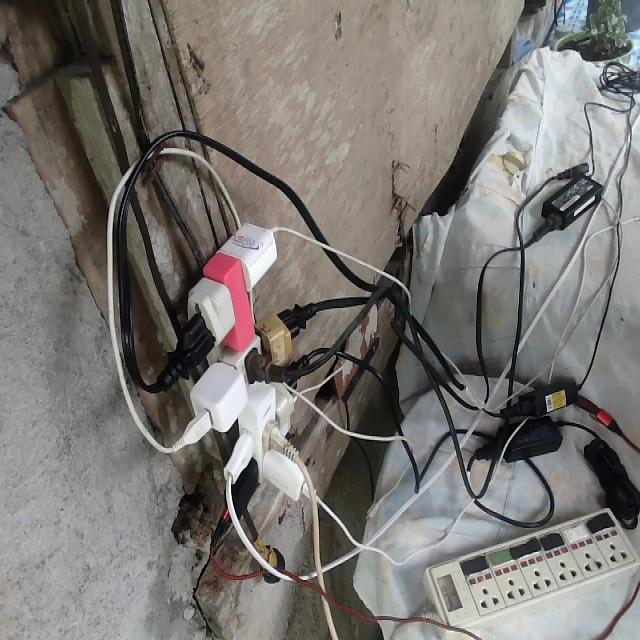-: (160, 219, 320, 520)
